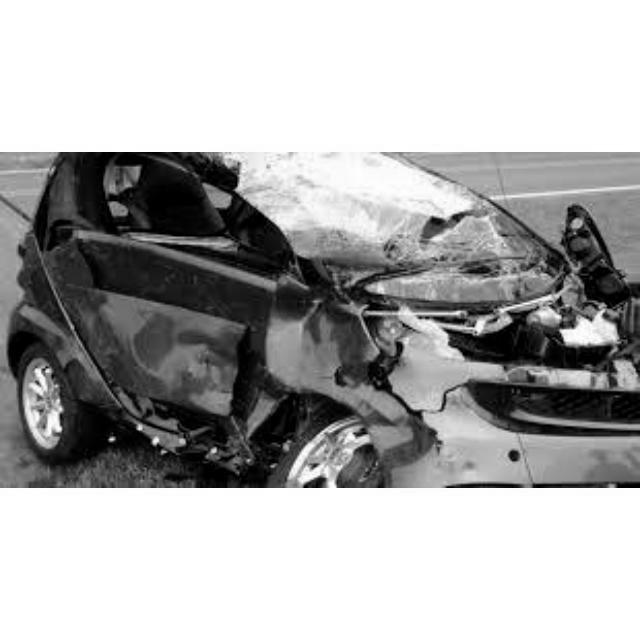Front-windscreen-damage: (240, 154, 567, 292)
Headlight-damage: (356, 307, 447, 363)
bonnet-dent: (444, 295, 640, 369)
doorouter-dent: (73, 233, 273, 444)
fender-dent: (278, 294, 384, 437)
front-bumper-dent: (404, 372, 640, 463)
